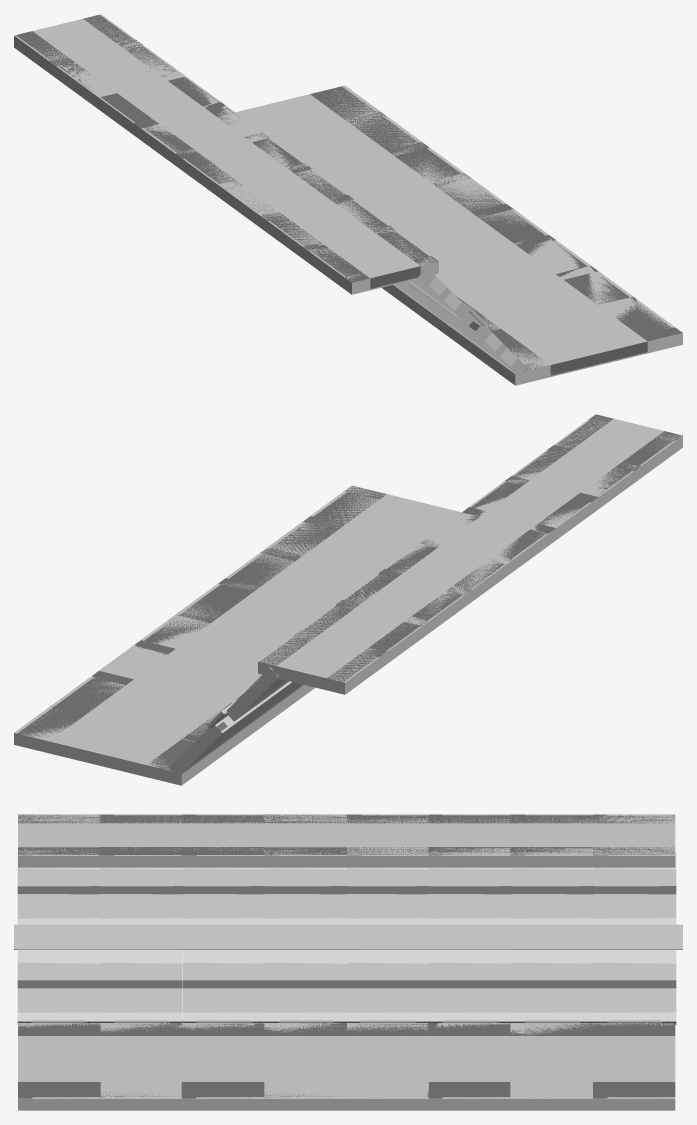
The model's file is SM_Arc_Armory_Ceiling_Angle_Long_01A_V3.fbx.
3 renders of one model, top to bottom at view 1: azimuth 30°, elevation 25°; view 2: azimuth 150°, elevation 25°; view 3: azimuth 270°, elevation 25°, orthographic. The views are drawn at different scales.
Parts seen in each view (by area): view 1: SM_Arc_Armory_Ceiling_Angle_Long_01A_V3_ConvexHulls, SM_Arc_Armory_Ceiling_Angle_Long_01A_V3; view 2: SM_Arc_Armory_Ceiling_Angle_Long_01A_V3_ConvexHulls, SM_Arc_Armory_Ceiling_Angle_Long_01A_V3; view 3: SM_Arc_Armory_Ceiling_Angle_Long_01A_V3_ConvexHulls, SM_Arc_Armory_Ceiling_Angle_Long_01A_V3.
Boxes of the visible parts, box(x1,y1,x2,y2) form: SM_Arc_Armory_Ceiling_Angle_Long_01A_V3_ConvexHulls: box(14, 14, 682, 385); SM_Arc_Armory_Ceiling_Angle_Long_01A_V3: box(16, 15, 682, 382); SM_Arc_Armory_Ceiling_Angle_Long_01A_V3_ConvexHulls: box(14, 414, 682, 785); SM_Arc_Armory_Ceiling_Angle_Long_01A_V3: box(17, 414, 682, 775); SM_Arc_Armory_Ceiling_Angle_Long_01A_V3_ConvexHulls: box(14, 814, 682, 1110); SM_Arc_Armory_Ceiling_Angle_Long_01A_V3: box(17, 814, 676, 1098).
Bounding box in the file's own units: 1442 × 2594 × 594.
Materials: 4 (2 with a texture image).
